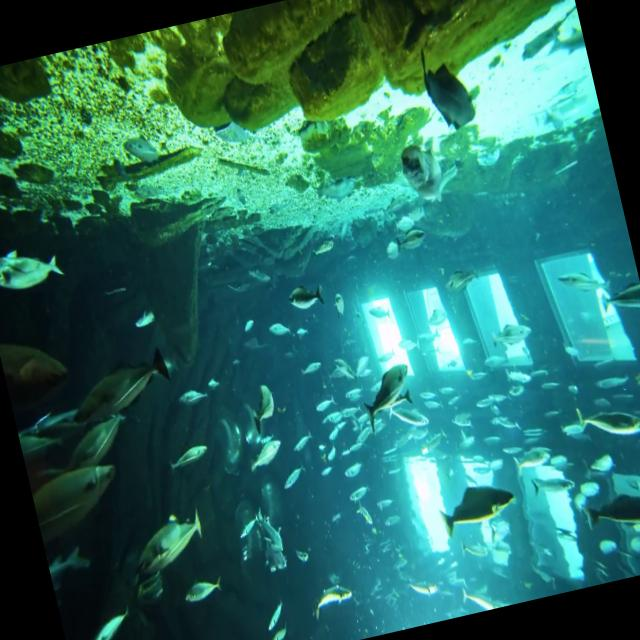fish: (54, 342, 180, 426), (27, 454, 129, 540), (122, 506, 212, 582), (414, 35, 476, 132), (435, 476, 520, 542), (395, 130, 461, 210), (354, 365, 422, 436), (574, 392, 640, 449), (0, 239, 61, 298), (584, 483, 640, 530), (242, 378, 282, 436), (81, 606, 143, 640), (309, 583, 357, 618), (244, 437, 288, 475), (166, 440, 212, 472), (287, 277, 326, 313)
